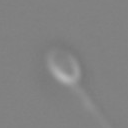normal: (73, 87, 114, 127)
